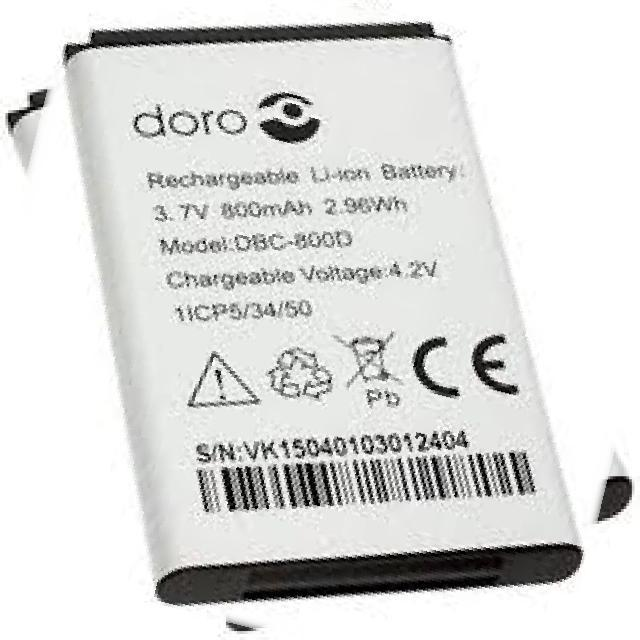Battery: (61, 19, 598, 608)
